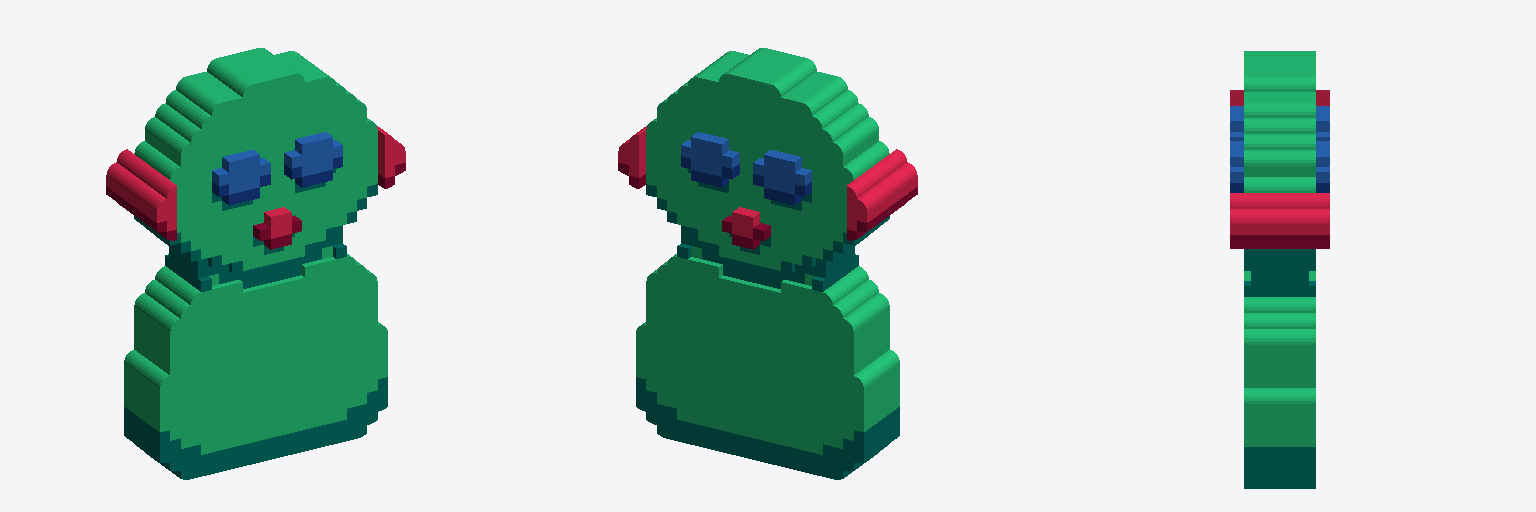
Rendered from StressSqueezeToy.obj.
3 views of the same model, side by side, from view 1: azimuth 30°, elevation 25°; view 2: azimuth 150°, elevation 25°; view 3: azimuth 270°, elevation 25° (orthographic).
Size of the model in its own units: 24 by 35 by 8.4.